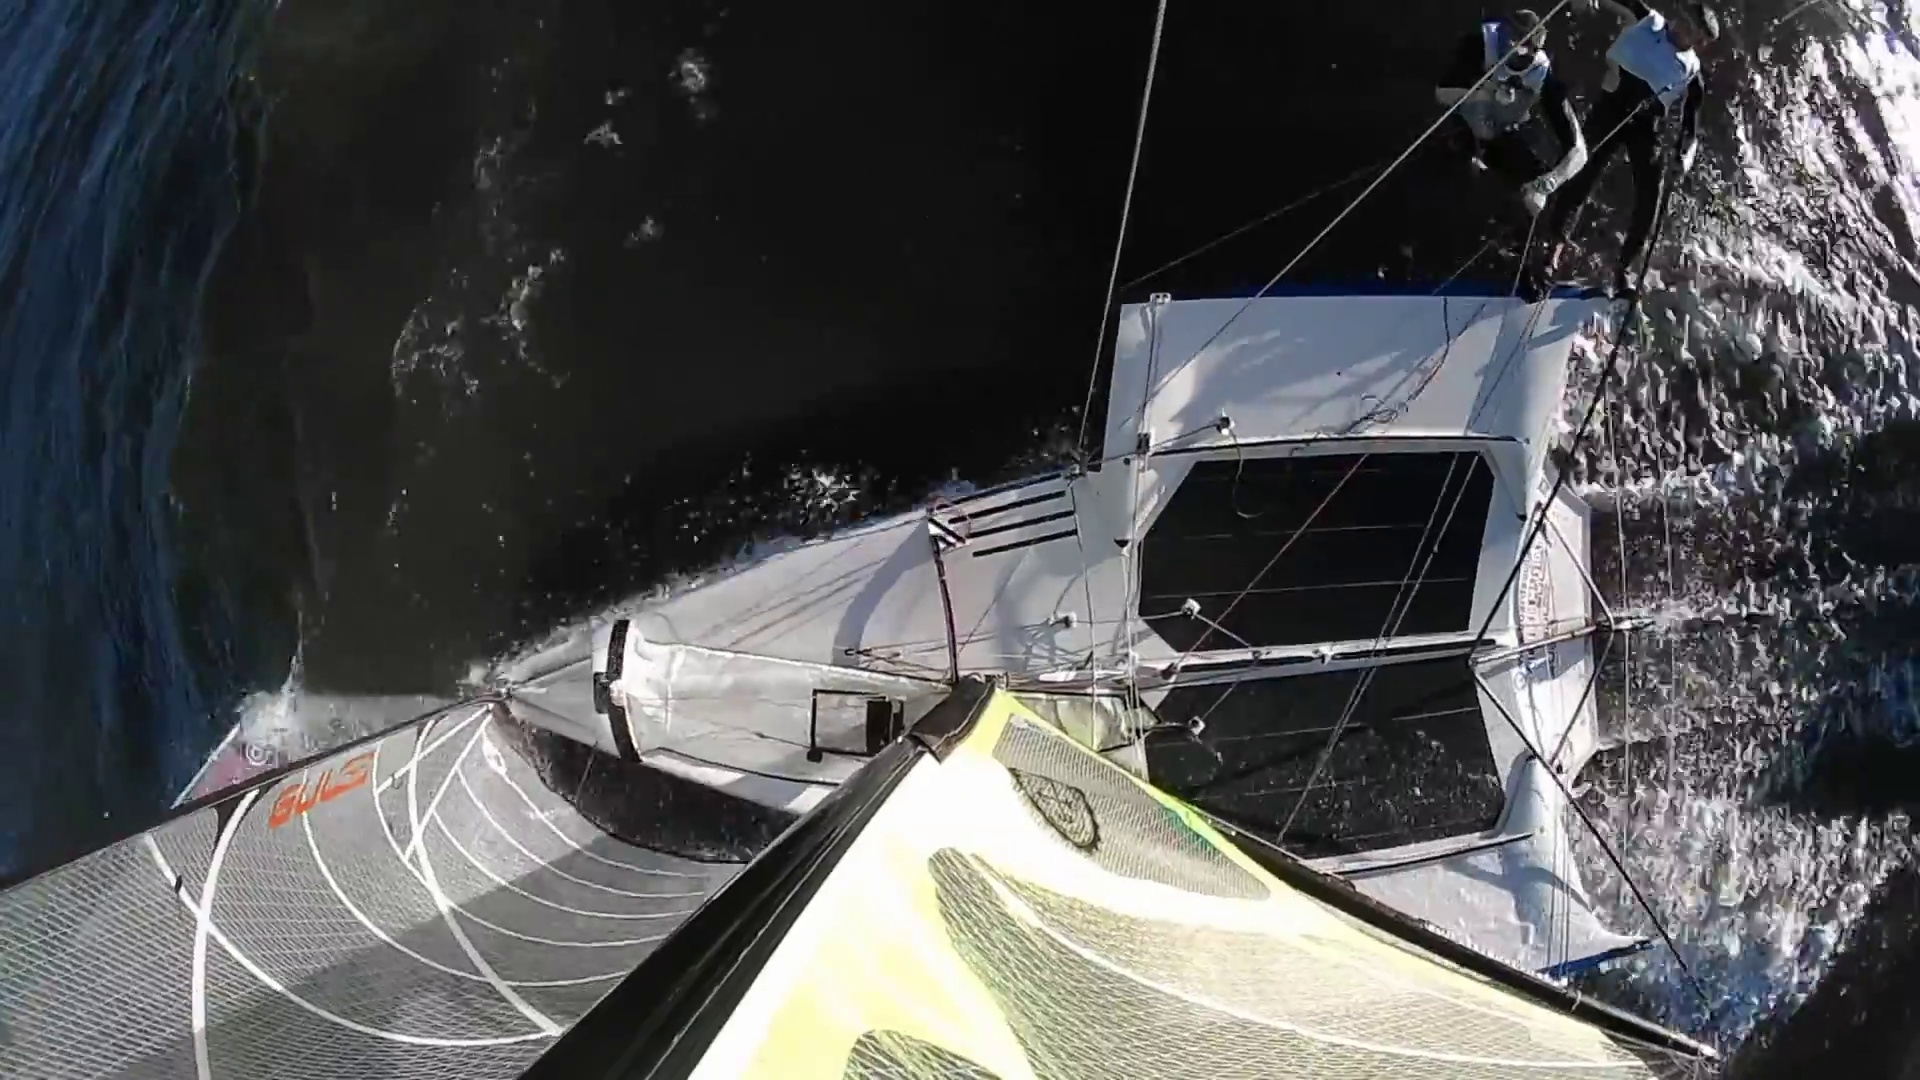pennon: (171, 872, 202, 938)
